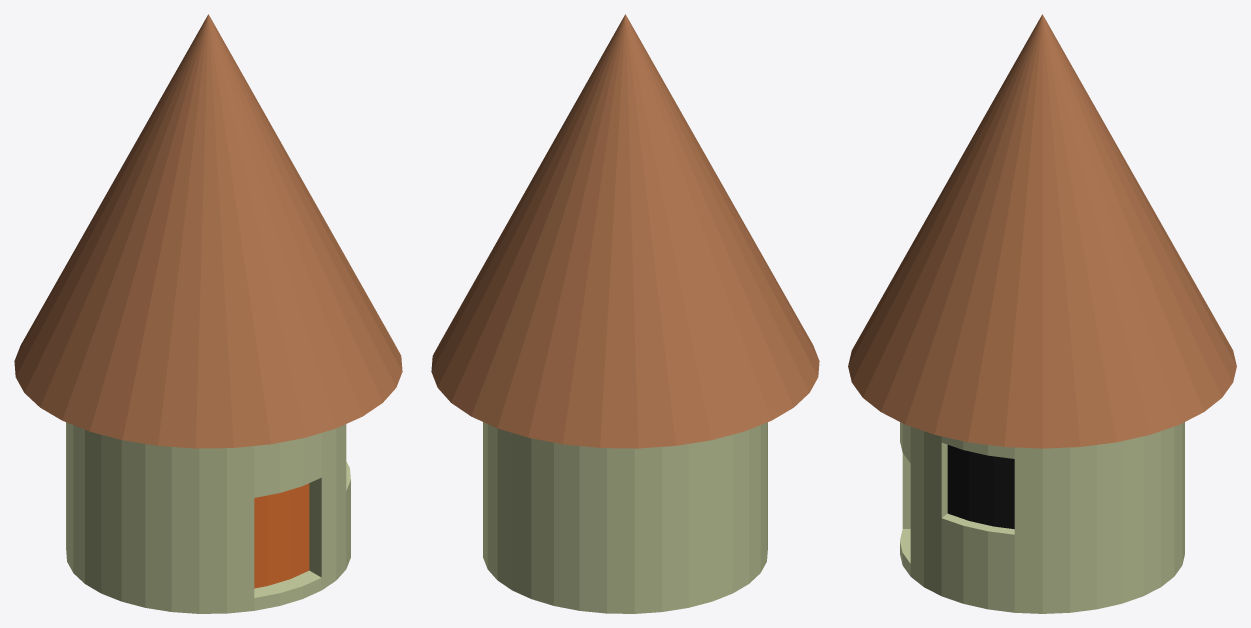
The model's file is rumah.fbx.
The picture shows the model from 3 angles, left to right: view 1: azimuth 30°, elevation 25°; view 2: azimuth 150°, elevation 25°; view 3: azimuth 270°, elevation 25°; orthographic projection.
Parts seen in each view (by area): view 1: Cone, Cylinder; view 2: Cone, Cylinder; view 3: Cone, Cylinder.
Part boxes in pixels (x1,y1,x2,y2): Cone: [14, 14, 402, 448]; Cylinder: [66, 422, 350, 613]; Cone: [431, 14, 819, 448]; Cylinder: [483, 422, 767, 613]; Cone: [848, 14, 1236, 448]; Cylinder: [900, 422, 1184, 613].
Bounding box in the file's own units: 1950 × 2986 × 1950.
